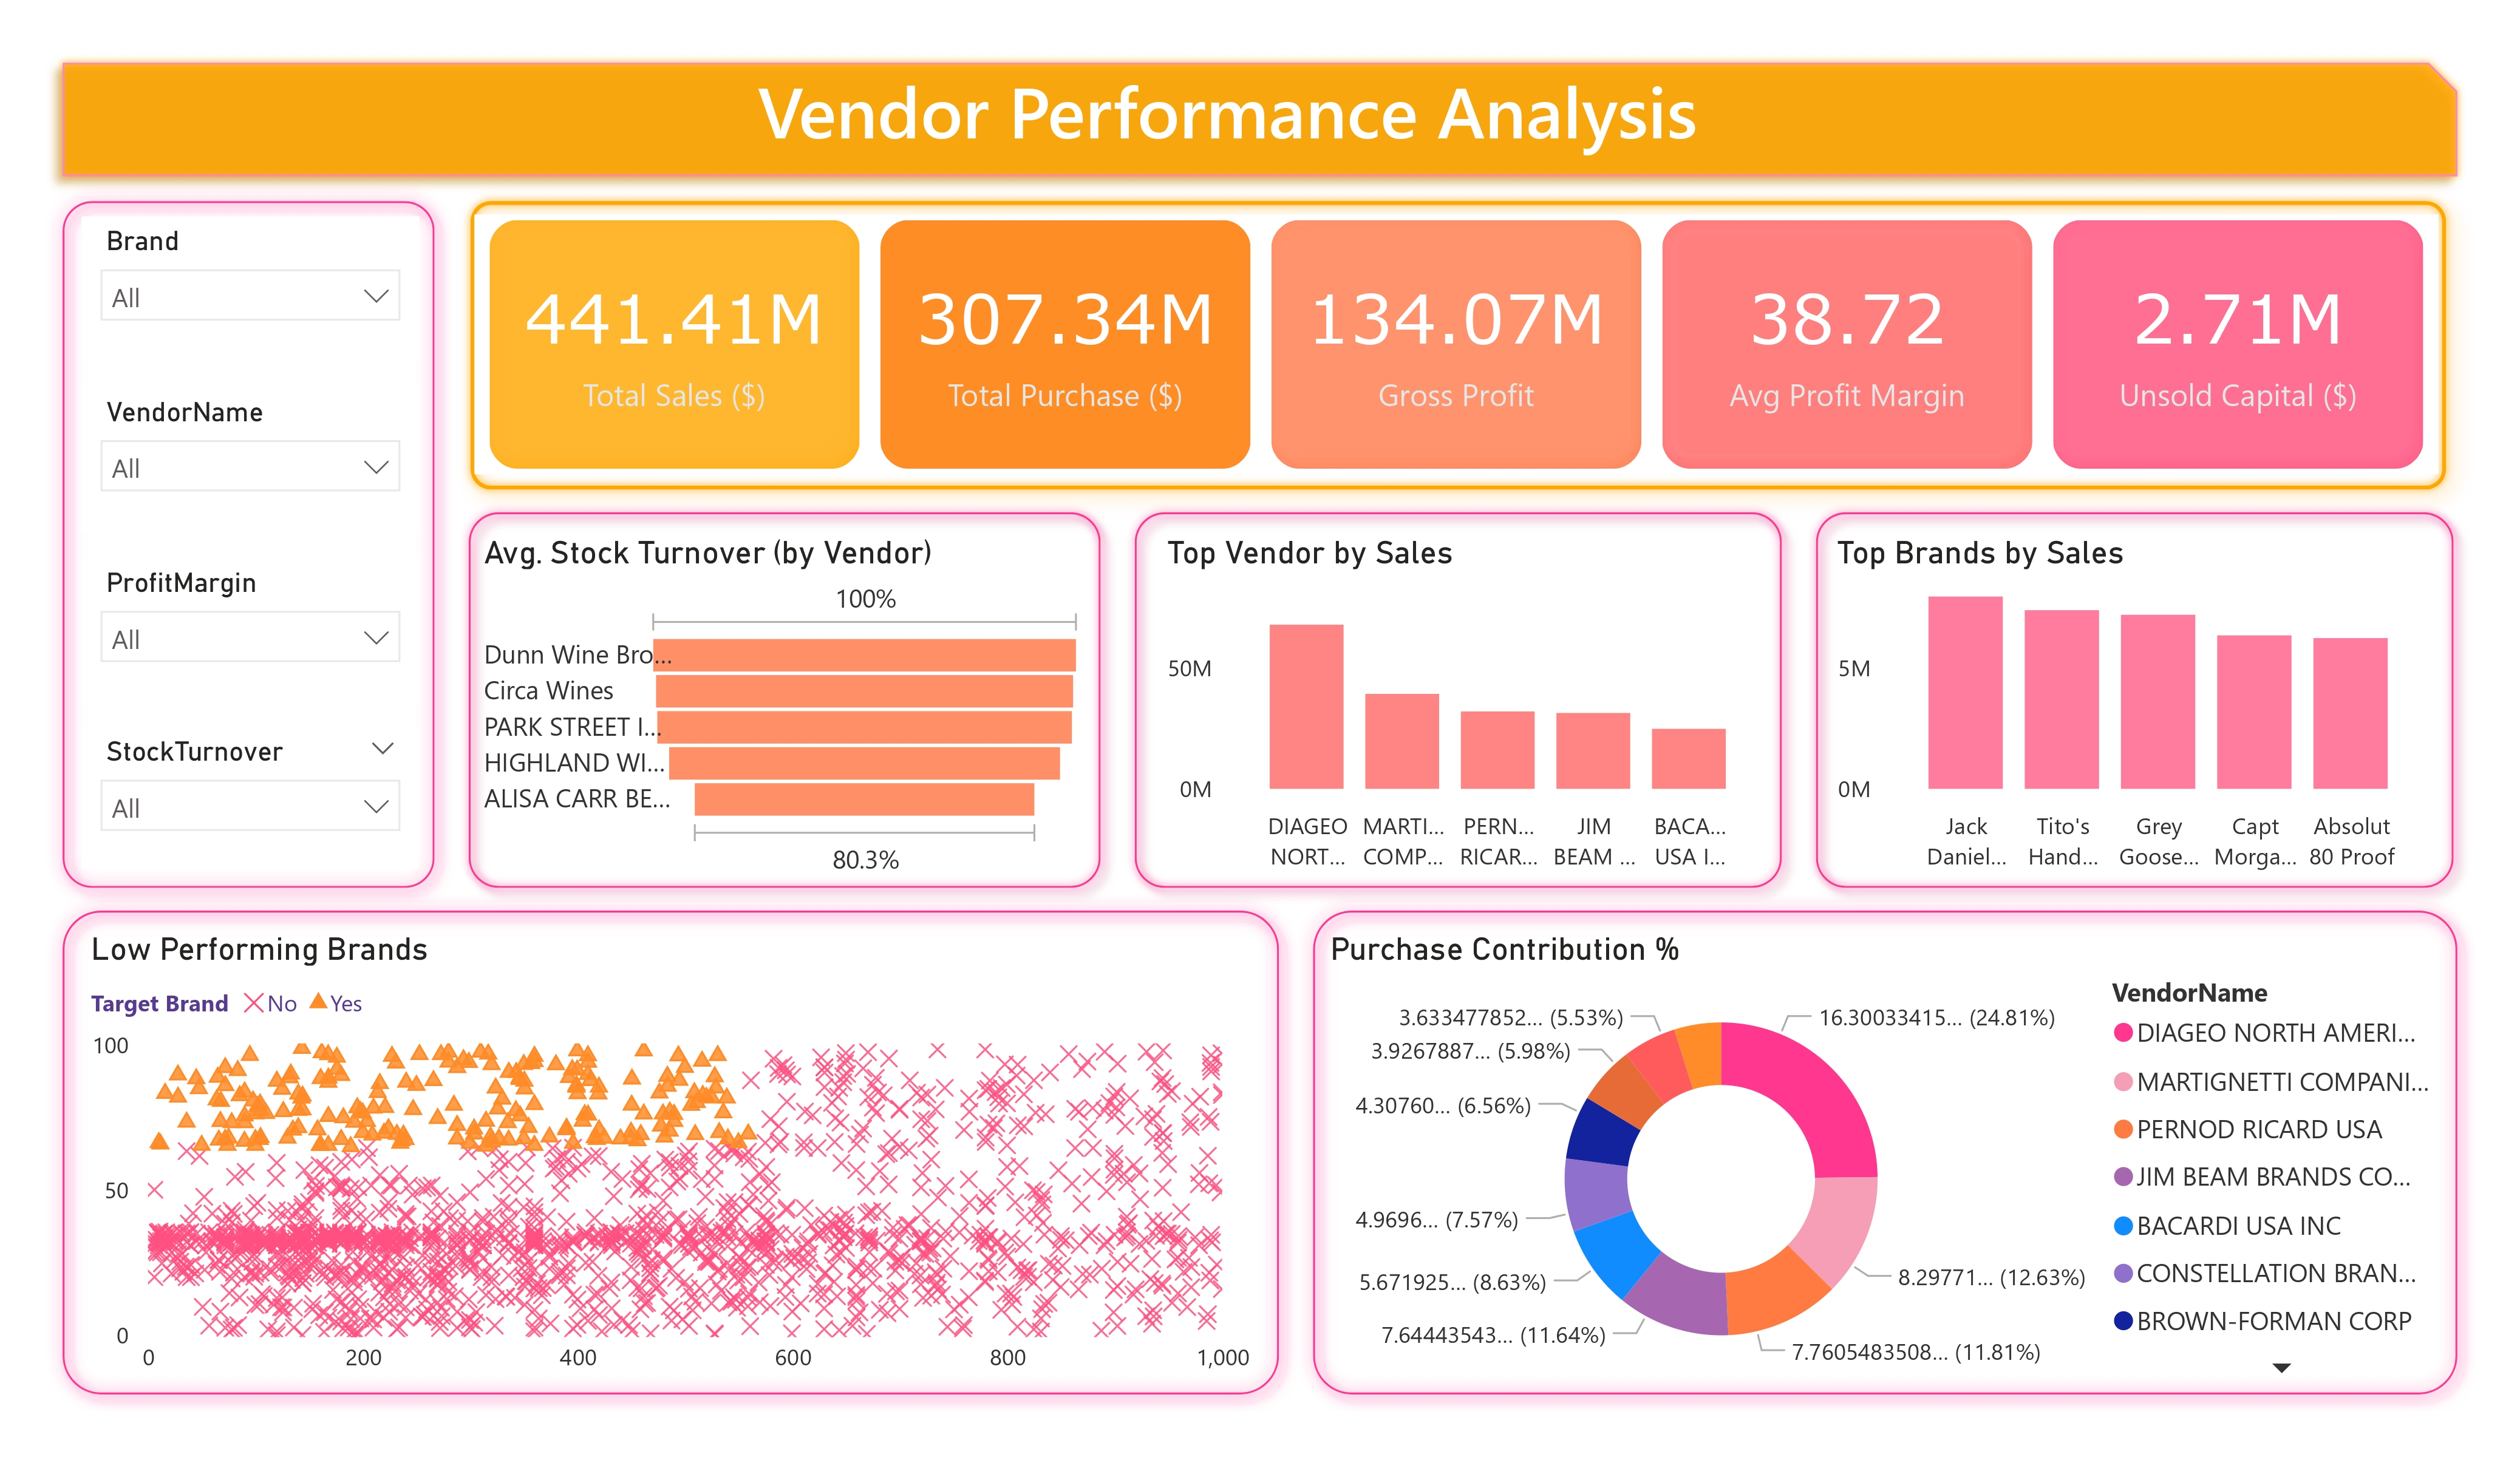

The page's visual inventory and layout, read from the dashboard file:
{"tool":"powerbi","page":{"name":"Business Performance and Overview","canvas":[1280,720],"ordinal":0},"visuals":[{"type":"shape","box":[0,0,1280.3,78.2],"z":0},{"type":"slicer","fields":{"Values":["vendor_sales_summary.Brand"]},"box":[18.9,90.3,177.9,76.2],"z":0,"group":"g1"},{"type":"textbox","box":[9.6,4.1,1236.4,68.6],"z":1000},{"type":"slicer","fields":{"Values":["vendor_sales_summary.VendorName"]},"box":[18.9,180.4,177.9,76.2],"z":1000,"group":"g1"},{"type":"slicer","fields":{"Values":["vendor_sales_summary.ProfitMargin"]},"box":[18.9,270.4,177.9,76.2],"z":2000,"group":"g1"},{"type":"slicer","fields":{"Values":["vendor_sales_summary.StockTurnover"]},"box":[18.9,359.1,177.9,74.8],"z":3000,"group":"g1"},{"type":"shape","box":[208.6,67.4,1071.4,181.9],"z":5000},{"type":"cardVisual","fields":{"Data":["inventory_db vendor_sales_summary.TotalSalesDollars","inventory_db vendor_sales_summary.TotalPurchaseDollars","inventory_db vendor_sales_summary.GrossProfit","inventory_db vendor_sales_summary.ProfitMargin","inventory_db vendor_sales_summary.Unsold_capital"]},"box":[226.4,88.9,1035,137.5],"z":6000},{"type":"shape","box":[214.3,237.2,350.4,215.6],"z":7000},{"type":"shape","box":[564.7,237.2,359.8,215.6],"z":8000},{"type":"shape","box":[924.5,237.2,353.1,215.6],"z":9000},{"type":"clusteredColumnChart","title":"Top Brands by Sales","fields":{"Category":["inventory_db vendor_sales_summary.Description"],"Y":["vendor_sales_summary.TotalSalesDollars"]},"box":[939.3,257.4,322.1,186],"z":10000},{"type":"clusteredColumnChart","title":"Top Vendor by Sales","fields":{"Category":["inventory_db vendor_sales_summary.VendorName"],"Y":["vendor_sales_summary.TotalSalesDollars"]},"box":[586.2,257.4,326.1,186],"z":11000},{"type":"funnel","title":"Avg. Stock Turnover (by Vendor)","fields":{"Category":["low_turnover_vendor.VendorName"],"Y":["low_turnover_vendor.AvgStockTurnOver"]},"box":[226.4,257.4,326.1,186],"z":12000},{"type":"shape","box":[659,447.4,621.3,272.2],"z":12001},{"type":"donutChart","title":"Purchase Contribution % ","fields":{"Category":["PurchaseContribution.VendorName"],"Y":["PurchaseContribution.PurchaseContribution%"]},"box":[672.5,466.3,598.4,243.9],"z":12002},{"type":"shape","box":[0,447.4,659,272.2],"z":12003},{"type":"scatterChart","title":"Low Performing Brands","fields":{"Category":["brand_performance.Description"],"X":["brand_performance.TotalSales"],"Y":["brand_performance.AvgProfitMargin"],"Series":["brand_performance.TargetBrand"]},"box":[18.9,466.3,621.3,243.9],"z":12004},{"type":"shape","box":[0,72.8,214.3,380],"z":12005},{"type":"group","id":"g1","title":"Group 1","box":[18.9,90.3,177.9,343.7],"z":12006}]}

Visuals, with their boxes on the page's 1280x720 design canvas (x1, y1, x2, y2). These are canvas units, not pixel positions in the 2520x1457 screenshot, which may show the page scaled, cropped or inside an application window:
shape: 0,0,1280,78
slicer - vendor_sales_summary.Brand: 19,90,197,166
textbox: 10,4,1246,73
slicer - vendor_sales_summary.VendorName: 19,180,197,257
slicer - vendor_sales_summary.ProfitMargin: 19,270,197,347
slicer - vendor_sales_summary.StockTurnover: 19,359,197,434
shape: 209,67,1280,249
cardVisual - inventory_db vendor_sales_summary.TotalSalesDollars x inventory_db vendor_sales_summary.TotalPurchaseDollars: 226,89,1261,226
shape: 214,237,565,453
shape: 565,237,924,453
shape: 924,237,1278,453
"Top Brands by Sales" clusteredColumnChart: 939,257,1261,443
"Top Vendor by Sales" clusteredColumnChart: 586,257,912,443
"Avg. Stock Turnover (by Vendor)" funnel: 226,257,552,443
shape: 659,447,1280,720
"Purchase Contribution % " donutChart: 672,466,1271,710
shape: 0,447,659,720
"Low Performing Brands" scatterChart: 19,466,640,710
shape: 0,73,214,453
"Group 1" group: 19,90,197,434
